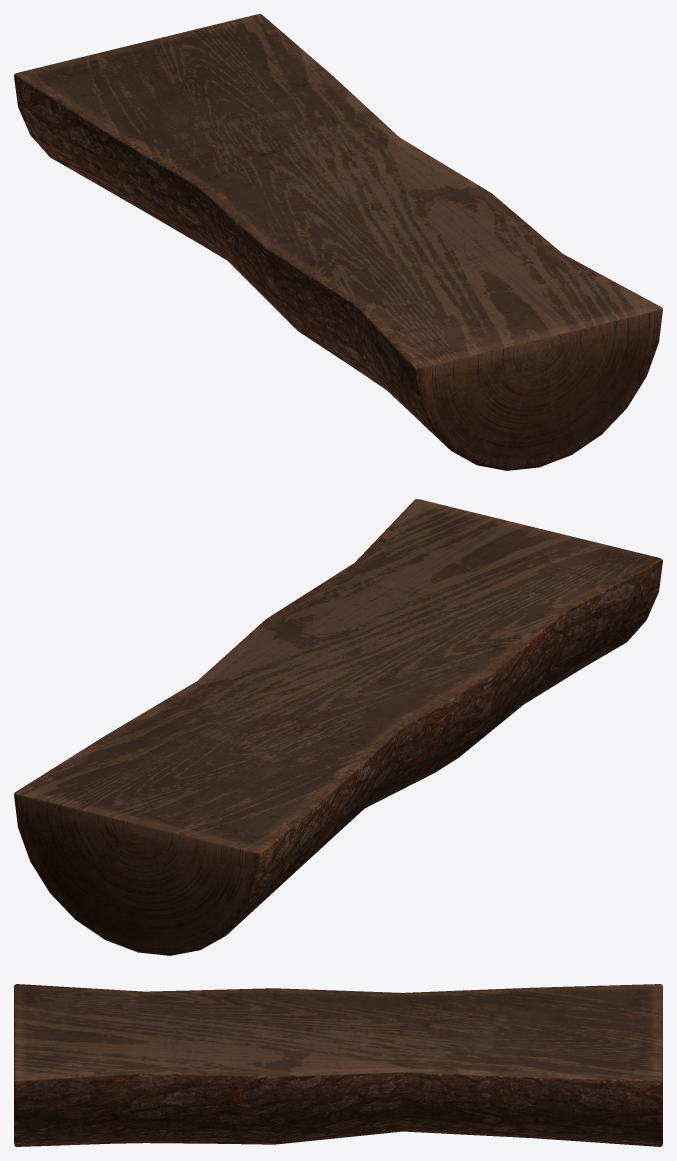
File: SM_FireWood_b.fbx
3 renders of one model, top to bottom at view 1: azimuth 30°, elevation 25°; view 2: azimuth 150°, elevation 25°; view 3: azimuth 270°, elevation 25°, orthographic. The views are drawn at different scales.
Visible parts, largest first — view 1: SM_FireWood_b; view 2: SM_FireWood_b; view 3: SM_FireWood_b.
Part boxes in pixels (<box>): SM_FireWood_b: <box>14,14,662,470</box>; SM_FireWood_b: <box>14,499,662,955</box>; SM_FireWood_b: <box>14,984,662,1146</box>.
Bounding box in the file's own units: 27.35 × 77.07 × 13.7.
1 material, 1 textured.
